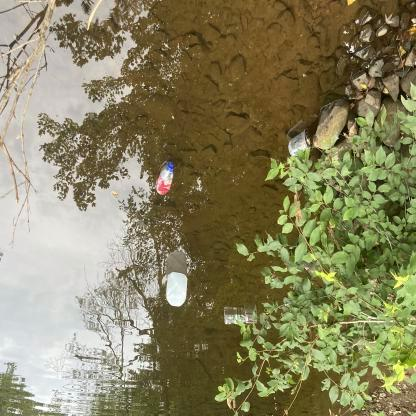Plastic: (161, 270, 190, 310), (153, 160, 177, 200), (286, 126, 315, 158), (222, 313, 259, 329)
